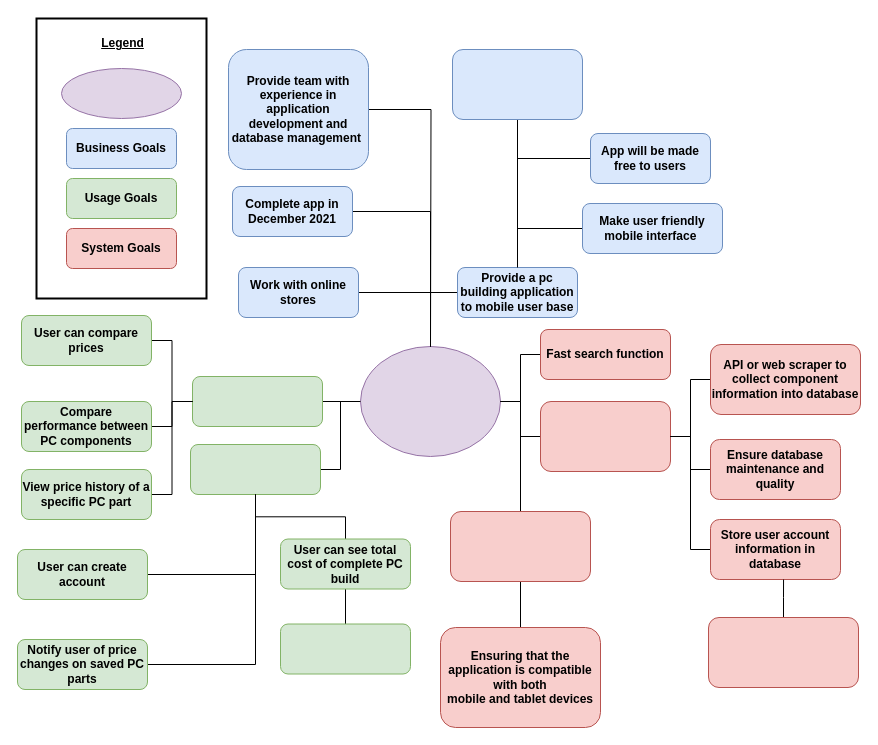
This 878x745 diagram has some shape labels left out. The shapes that lost their labels are listed below. From the top down, each one's centre as x and y in pixels, then its label:
the point at 121,93: Primary Goal
the point at 517,84: Make mobile application available on iOS and Android
the point at 257,401: User can search and filter PC components
the point at 430,401: Help users decide what PC components to buy and build with
the point at 605,436: Use cloud database to store computer parts information
the point at 255,469: User can create and save list of parts and ensure compatibility
the point at 520,546: Ensure application is compatible with iOS and Android
the point at 345,648: Get recommendation based on budget on desired performance
the point at 783,652: Ensure the user authenticates before logging in
